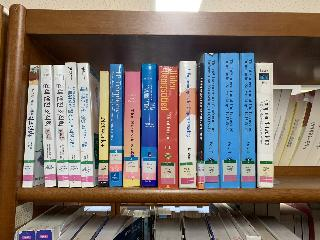book-spine: (218, 53, 241, 188), (158, 66, 179, 188), (63, 62, 82, 188), (239, 52, 256, 188), (76, 62, 94, 187), (256, 62, 273, 187), (141, 63, 158, 187), (22, 64, 39, 187), (123, 71, 141, 186), (204, 53, 219, 188), (180, 61, 196, 187), (53, 64, 69, 188), (40, 65, 56, 188), (109, 64, 123, 186), (98, 71, 109, 186), (198, 63, 204, 189)
